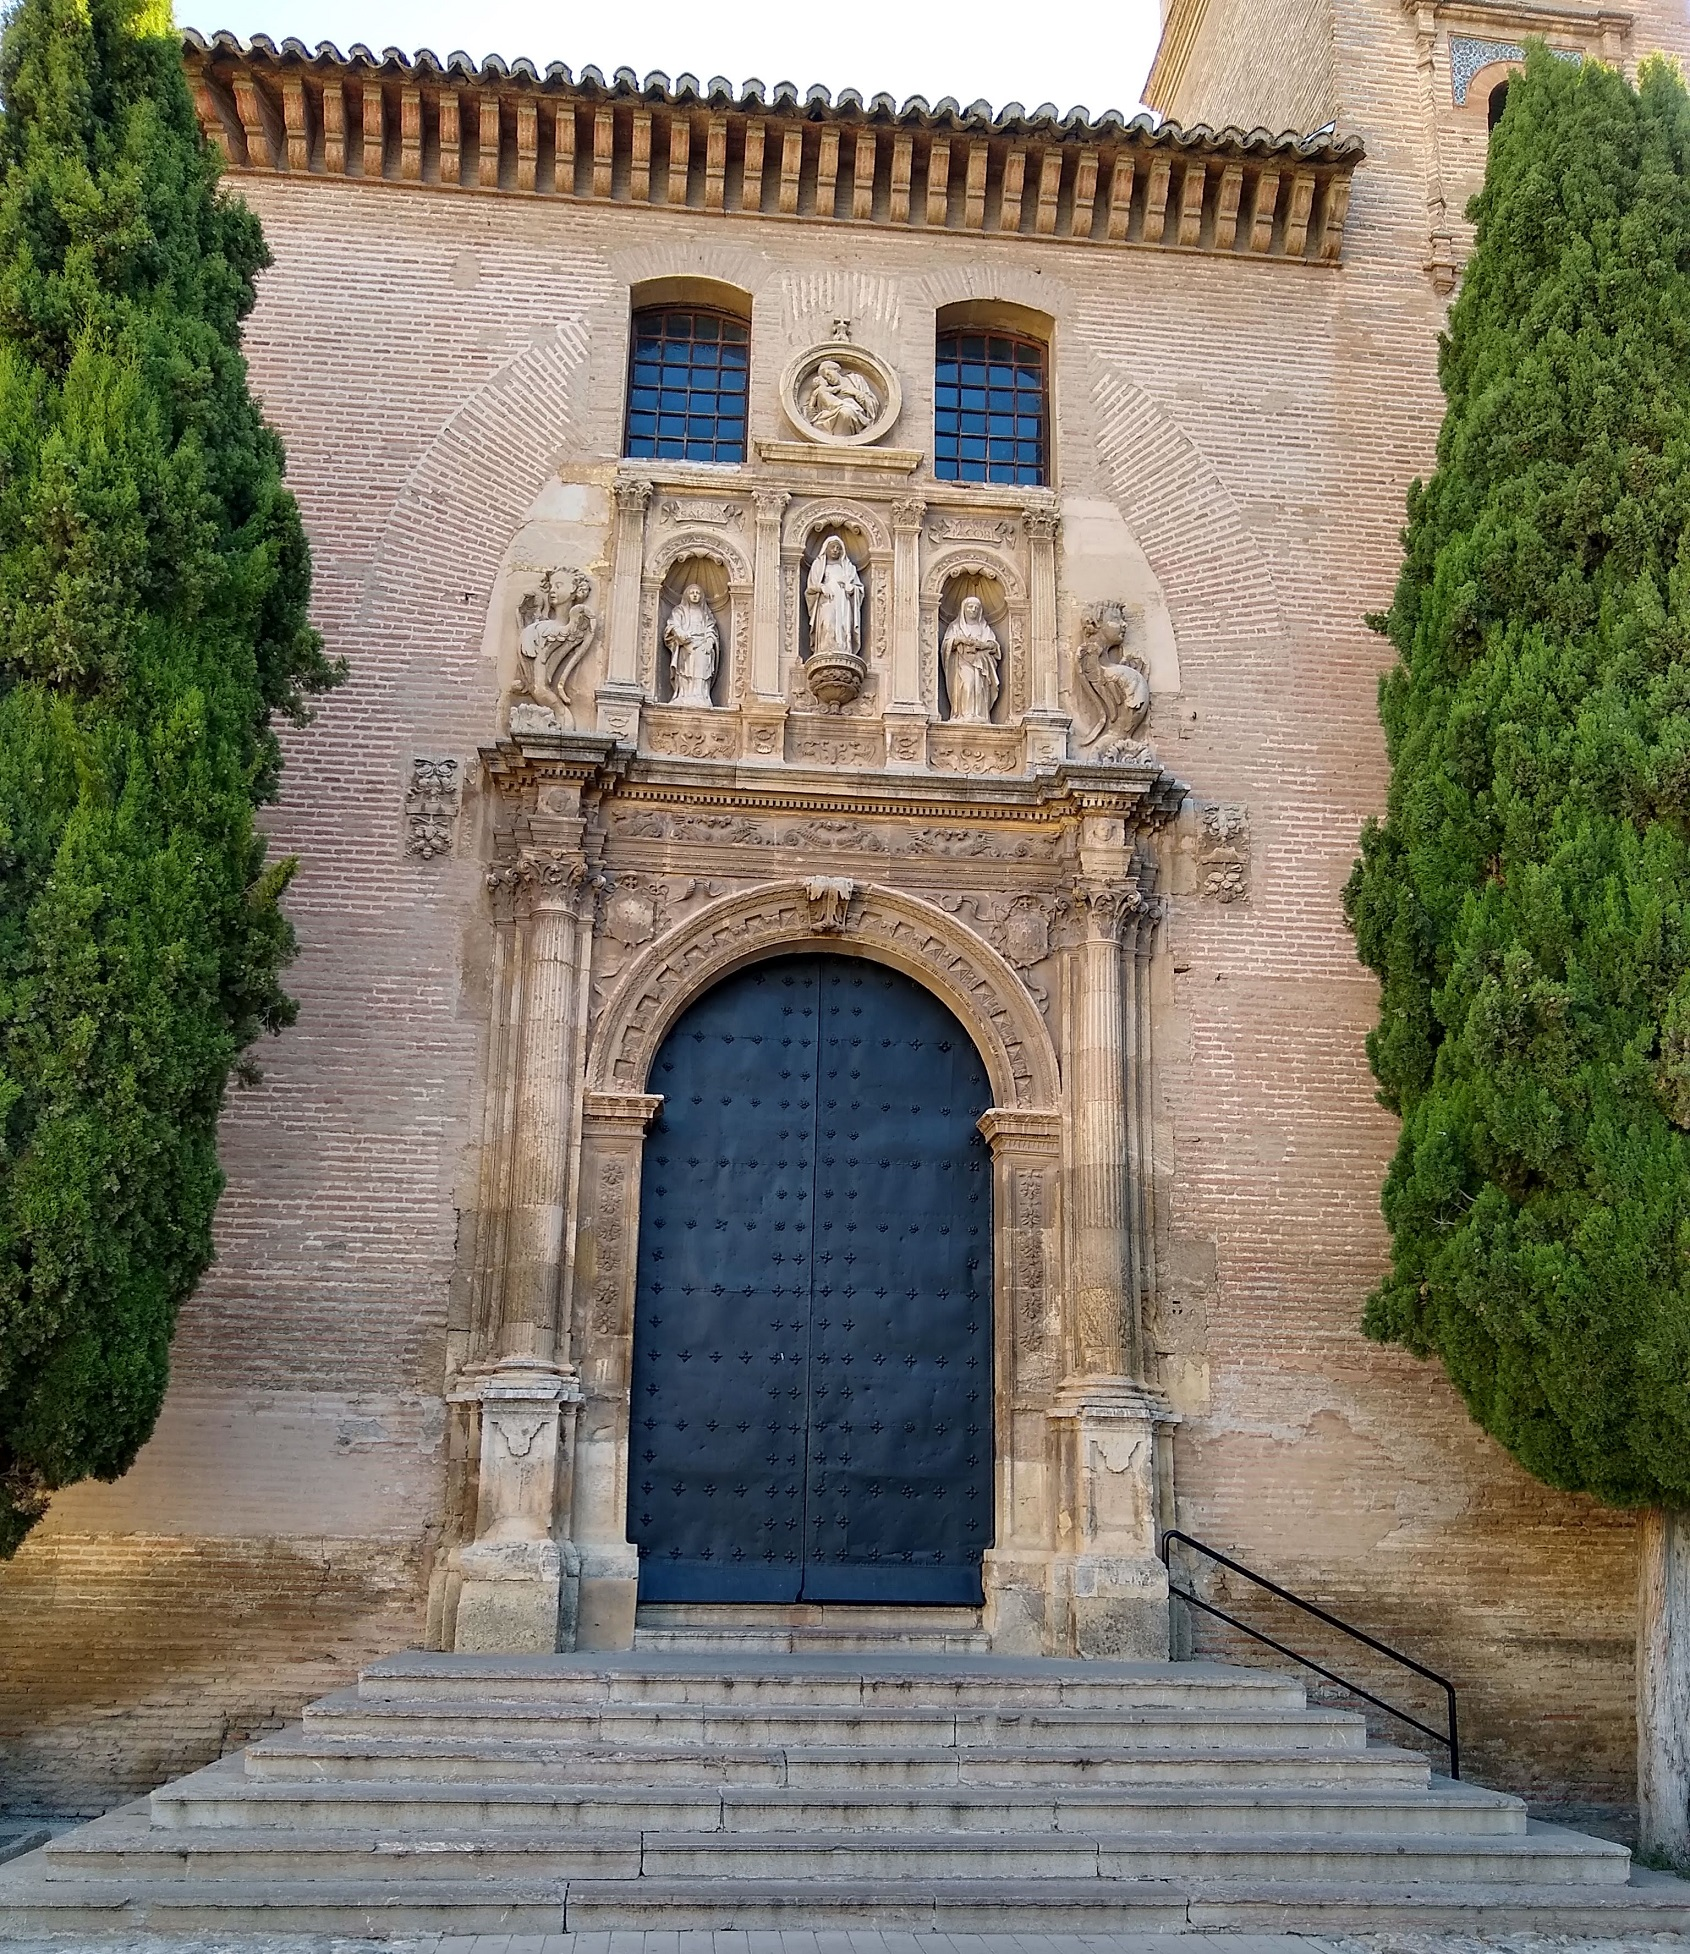arco-medio-punto: (626, 921, 1022, 1170)
